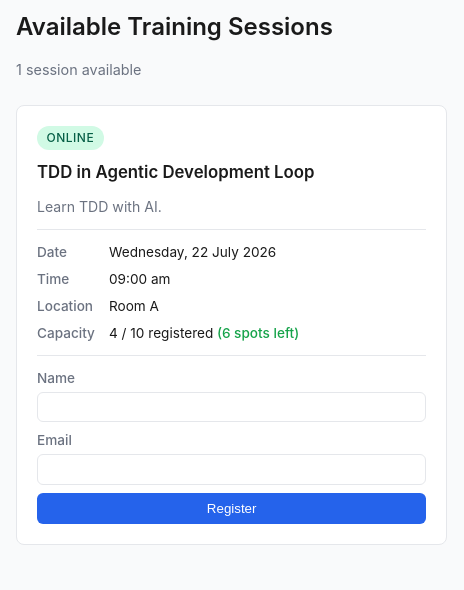
it: TrainingSessionsPage registration › shows the error message from the response body and leaves the count unchanged
The image size is (464, 590).
Expected: the link "TDD in Agentic Development Loop" is shown, [37,162,314,182]
Step 1. Type "Ada Lovelace" into the field labelled "Name" → (232, 407), box [37,392,426,422]
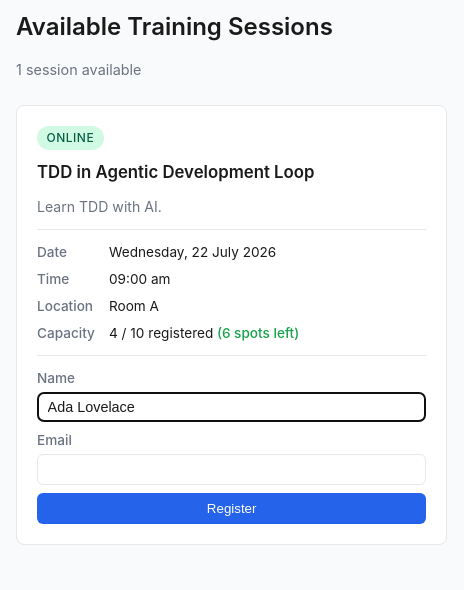
Step 2. Type "ada@example.com" into the field labelled "Email" → (232, 469), box [37,454,426,485]
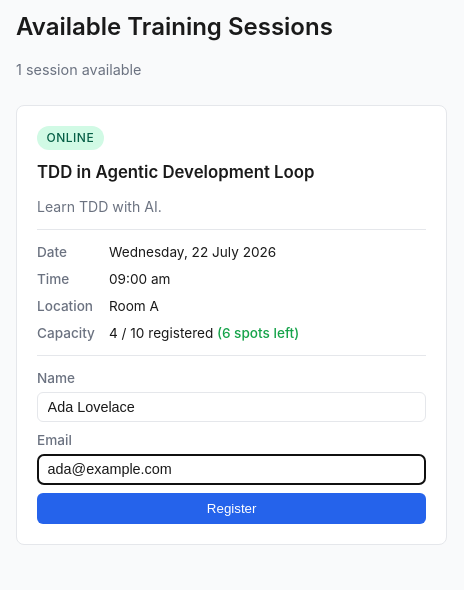
Step 3. Click the button "Register" → (232, 508), box [37,493,426,524]
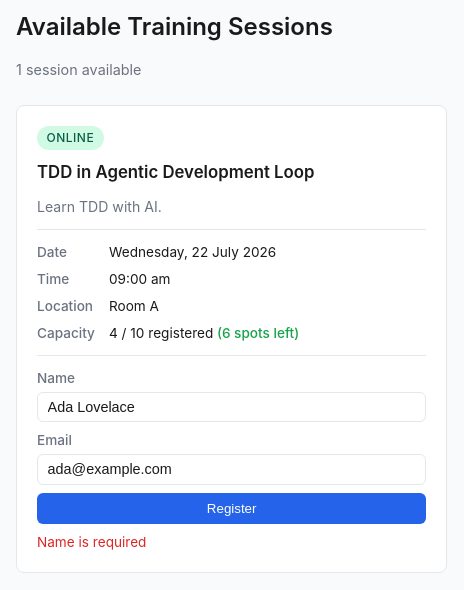
Expected: the text "4 / 10 registered (6 spots left)" is shown, [109,323,299,343]
Expected: the message reads "Name is required", [37,534,146,550]
